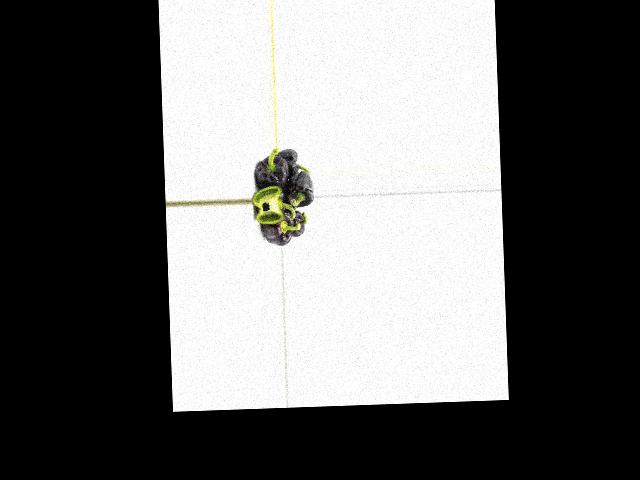bell_pepper: (262, 205, 294, 245)
